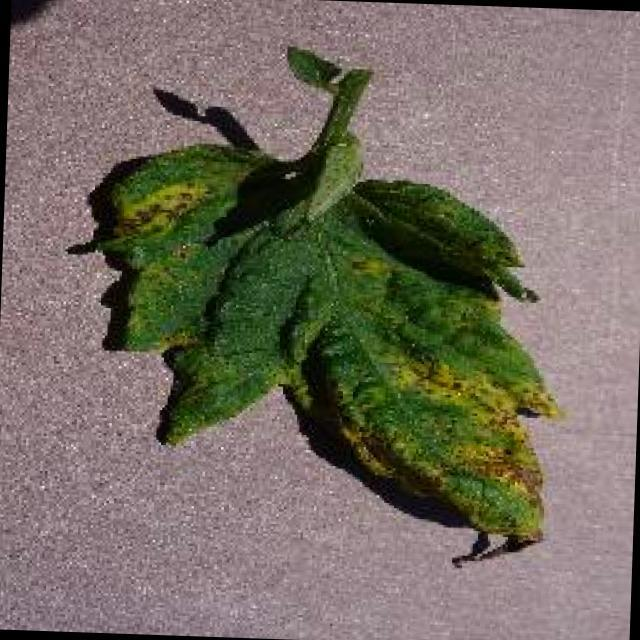Tomato Septoria spot leaf: (59, 138, 562, 570)
